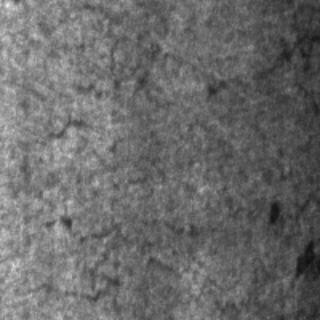crazing: (18, 112, 216, 308), (4, 29, 318, 139)
